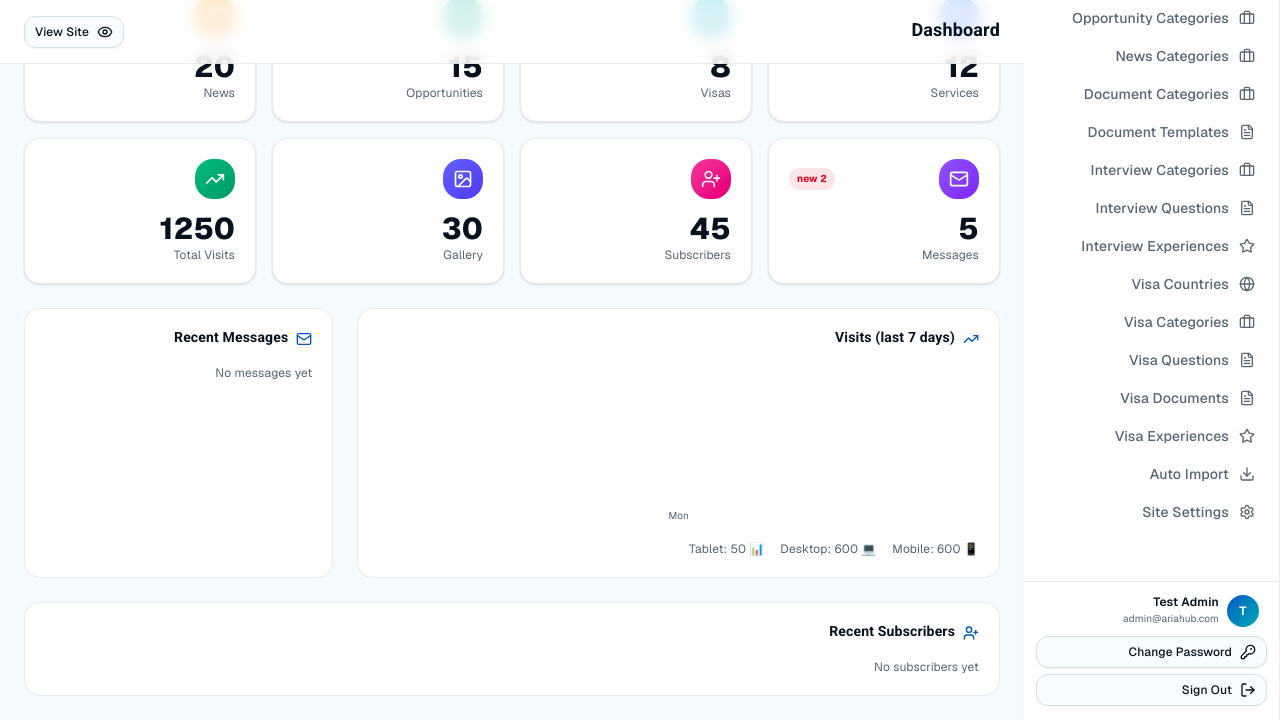
Settings Panel Unit Tests › Language Switching - Requirement 7.1, 7.6 › updates all settings panel text when switching from English to Pashto
(page scrolled)
Expected: the text "Site Settings" is shown, [1142,502,1229,522]
What coordinates should you click on to do the following:
click the button "Site Settings"
I would click on:
 (1152, 512)
Its box is [1036,494,1267,530].
(page scrolled)
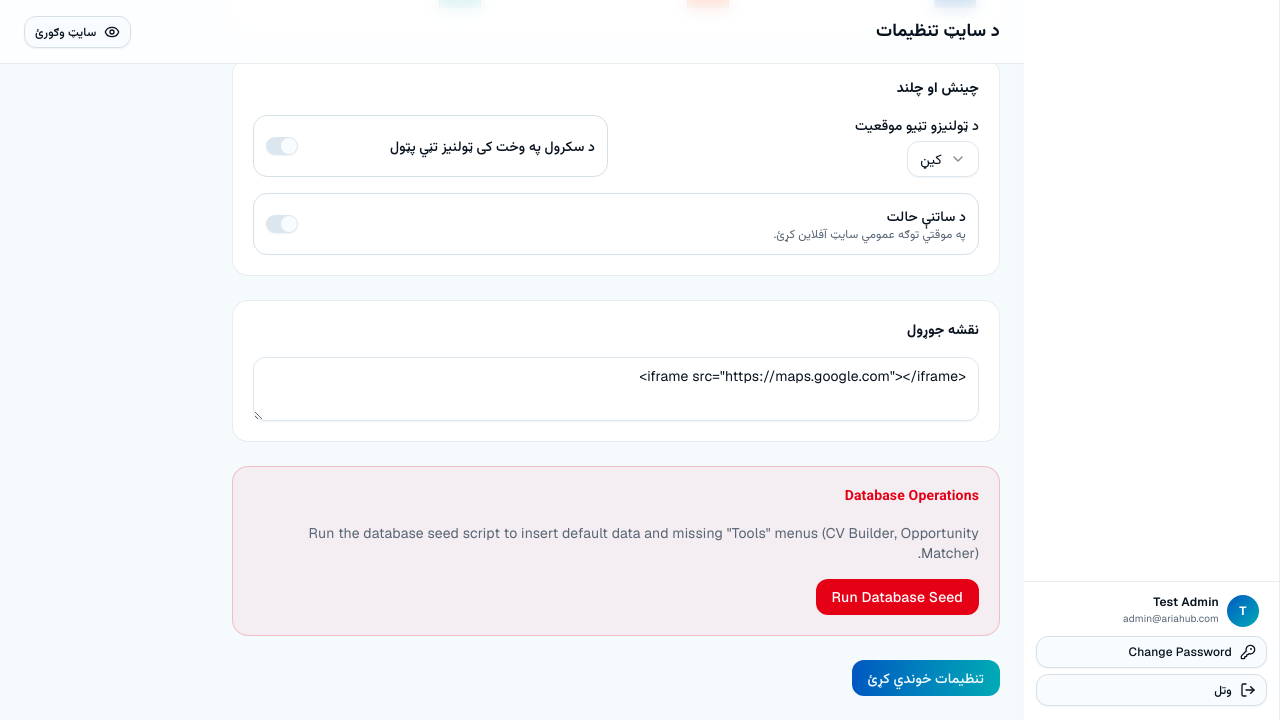
Expected: the button "تنظیمات خوندي کړئ" is shown, [852,660,1000,696]
